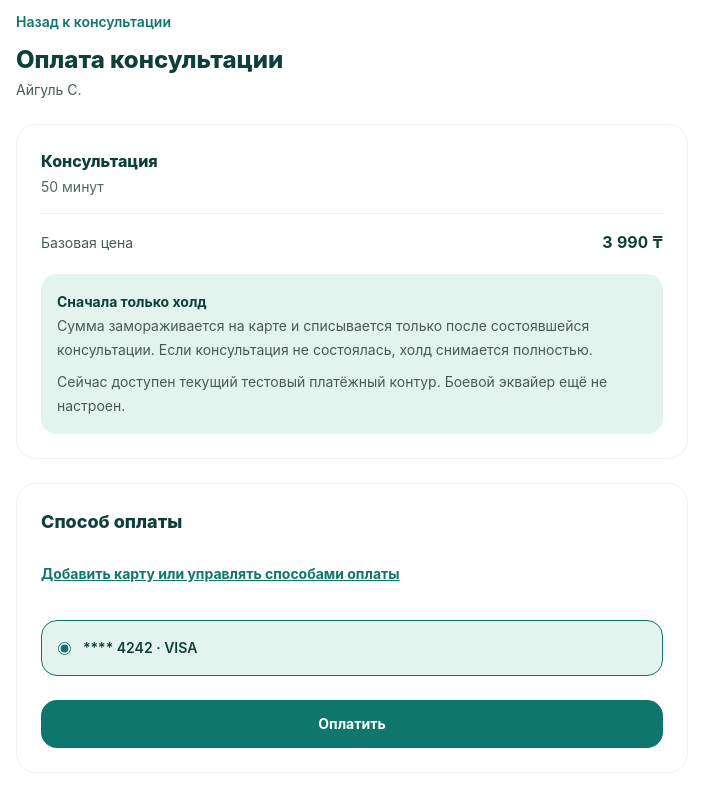
PaymentCheckout › показывает подтверждённый отказ провайдера и разрешает повторить
Expected: the radio button labelled "**** 4242 · VISA" is shown, [58,642,71,654]
Click the button "Оплатить".
click(352, 724)  # box [41,700,663,748]
(page scrolled)
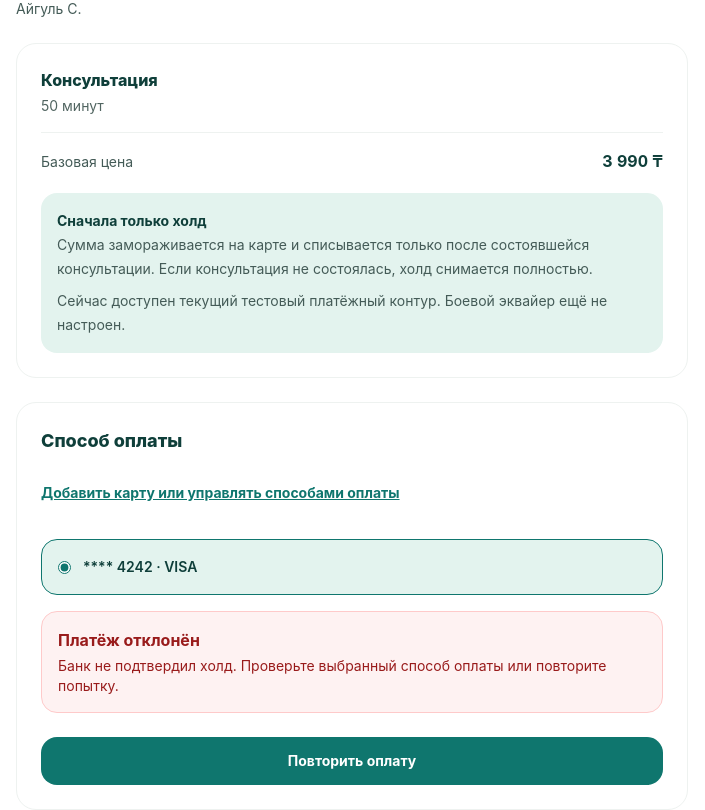
Expected: the button "Повторить оплату" is enabled, [41,737,663,785]
Now the message shows "Платёж отклонён", box [58,630,200,650]
